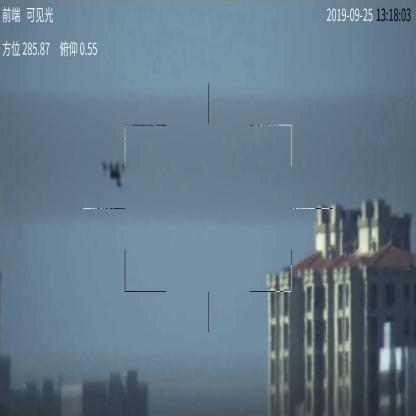uav: (102, 156, 128, 189)
